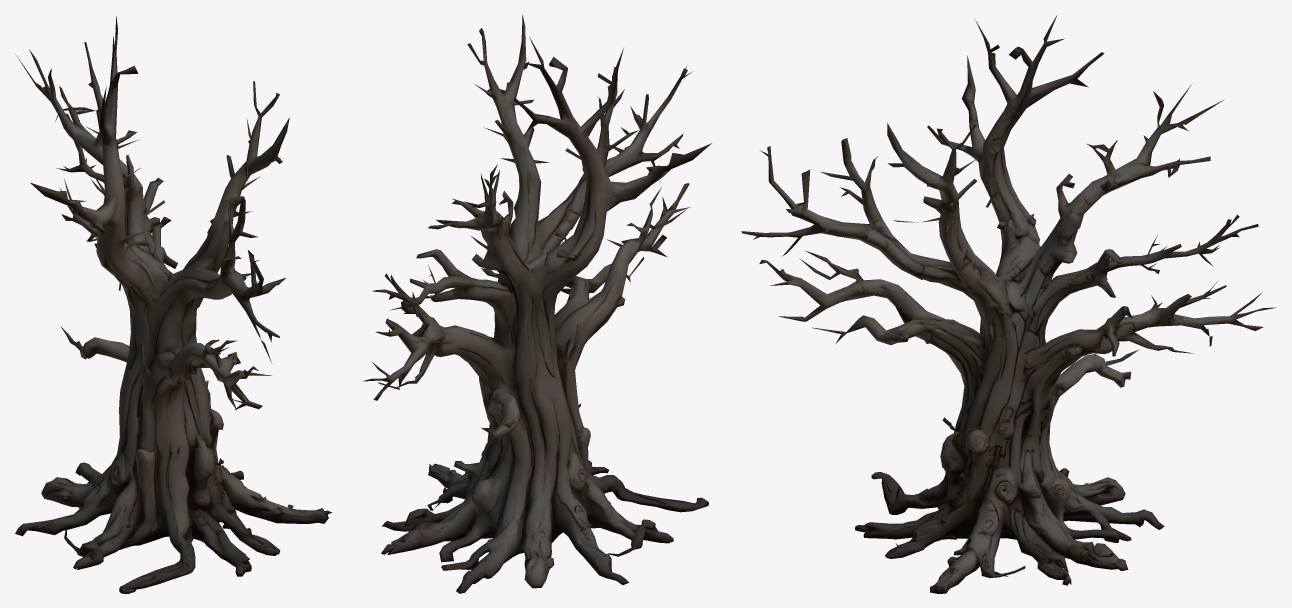
The model's file is spooky-tree.glb.
The picture shows the model from 3 angles, left to right: view 1: azimuth 30°, elevation 25°; view 2: azimuth 150°, elevation 25°; view 3: azimuth 270°, elevation 25°; orthographic projection. The views are drawn at different scales.
Parts seen in each view (by area): view 1: tripo_node_4428702d-5ff9-4d52-af98-59f4dc211cdc; view 2: tripo_node_4428702d-5ff9-4d52-af98-59f4dc211cdc; view 3: tripo_node_4428702d-5ff9-4d52-af98-59f4dc211cdc.
Part boxes in pixels (x1,y1,x2,y2): tripo_node_4428702d-5ff9-4d52-af98-59f4dc211cdc: (15,16,332,593); tripo_node_4428702d-5ff9-4d52-af98-59f4dc211cdc: (363,15,711,593); tripo_node_4428702d-5ff9-4d52-af98-59f4dc211cdc: (741,15,1276,593).
Bounding box in the file's own units: 0.5888 × 0.9797 × 0.9387.
Materials: 1 (1 with a texture image).
